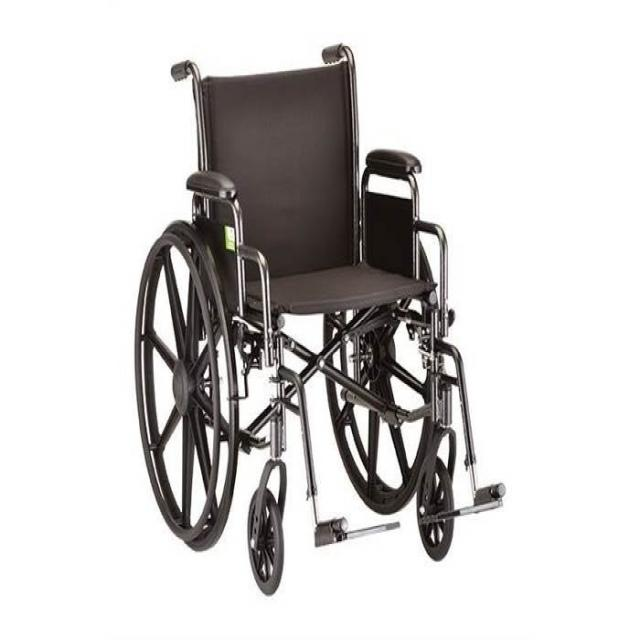wheelchair: (128, 30, 510, 600)
